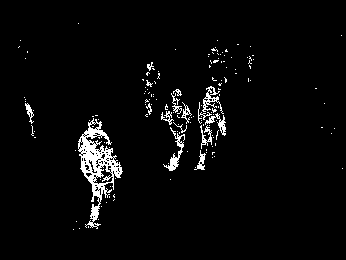person: (77, 115, 122, 232), (161, 88, 193, 174), (196, 84, 225, 172), (144, 60, 162, 119)
